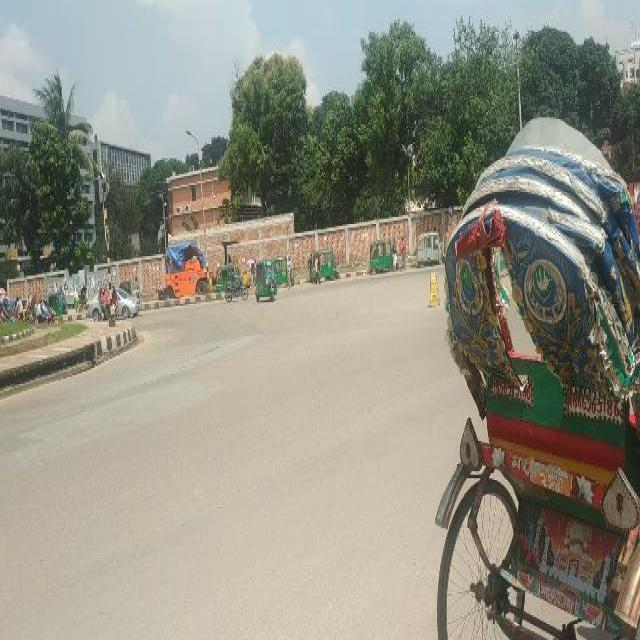bike: (223, 283, 250, 302), (157, 287, 168, 303)
vehicle: (451, 123, 638, 640), (308, 249, 342, 283), (368, 240, 400, 274), (417, 232, 446, 268), (255, 262, 278, 303), (15, 294, 39, 328), (99, 287, 119, 319), (277, 257, 295, 289), (48, 293, 69, 313), (76, 286, 88, 313), (128, 282, 141, 300)
